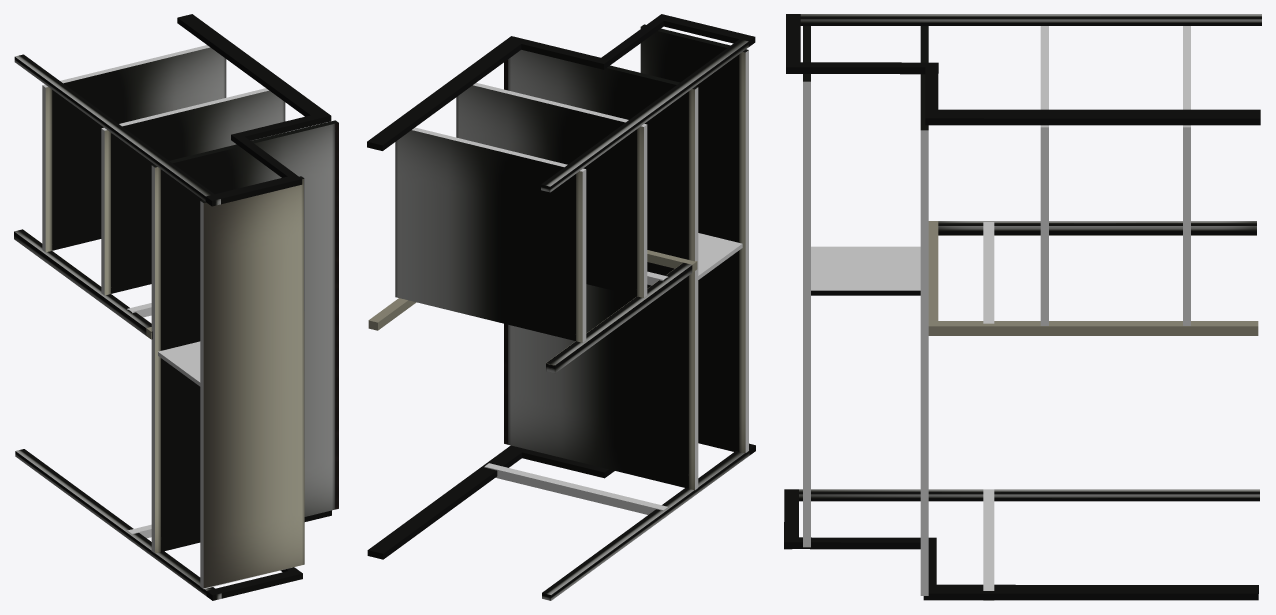
Rendered from desk192_wtf.obj.
The picture shows the model from 3 angles, left to right: view 1: azimuth 30°, elevation 25°; view 2: azimuth 150°, elevation 25°; view 3: azimuth 270°, elevation 25°; orthographic projection. The views are drawn at different scales.
Visible parts, largest first — view 1: group4, group2, group3, group9, group10, group5, group7, group11; view 2: group4, group2, group9, group3, group5, group10, group7; view 3: group2, group9, group3, group10, group7, group5, group11, group12.
Part boxes in pixels (x1=…): group4: x1=45, y1=47, x2=338, y2=588; group2: x1=14, y1=14, x2=331, y2=206; group3: x1=42, y1=85, x2=304, y2=588; group9: x1=15, y1=449, x2=331, y2=600; group10: x1=14, y1=229, x2=152, y2=339; group5: x1=42, y1=45, x2=268, y2=541; group7: x1=158, y1=341, x2=200, y2=382; group11: x1=152, y1=120, x2=338, y2=167; group4: x1=395, y1=27, x2=745, y2=490; group2: x1=367, y1=14, x2=755, y2=192; group9: x1=367, y1=442, x2=755, y2=600; group3: x1=582, y1=50, x2=748, y2=489; group5: x1=412, y1=82, x2=668, y2=517; group10: x1=368, y1=250, x2=697, y2=373; group7: x1=698, y1=233, x2=741, y2=275; group2: x1=786, y1=14, x2=1261, y2=125; group9: x1=784, y1=489, x2=1259, y2=600; group3: x1=803, y1=81, x2=1190, y2=595; group10: x1=928, y1=221, x2=1258, y2=335; group7: x1=811, y1=246, x2=920, y2=290; group5: x1=983, y1=26, x2=1190, y2=600; group11: x1=920, y1=26, x2=928, y2=130; group12: x1=811, y1=290, x2=920, y2=295.
Bounding box in the file's own units: 319 × 660 × 590.
